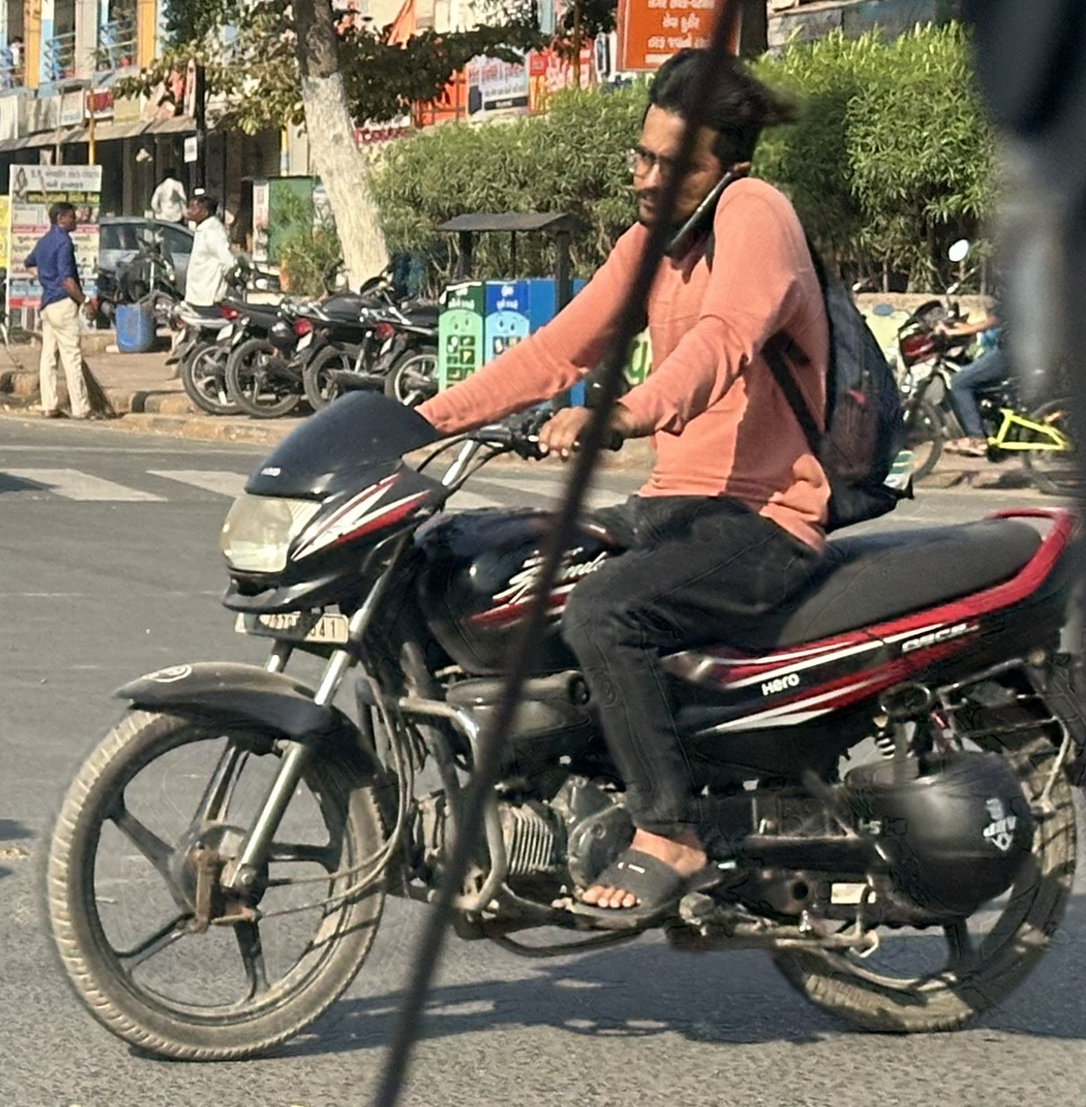BikeWithRider: (32, 41, 1086, 1066)
NoHelmet: (620, 41, 784, 244)
